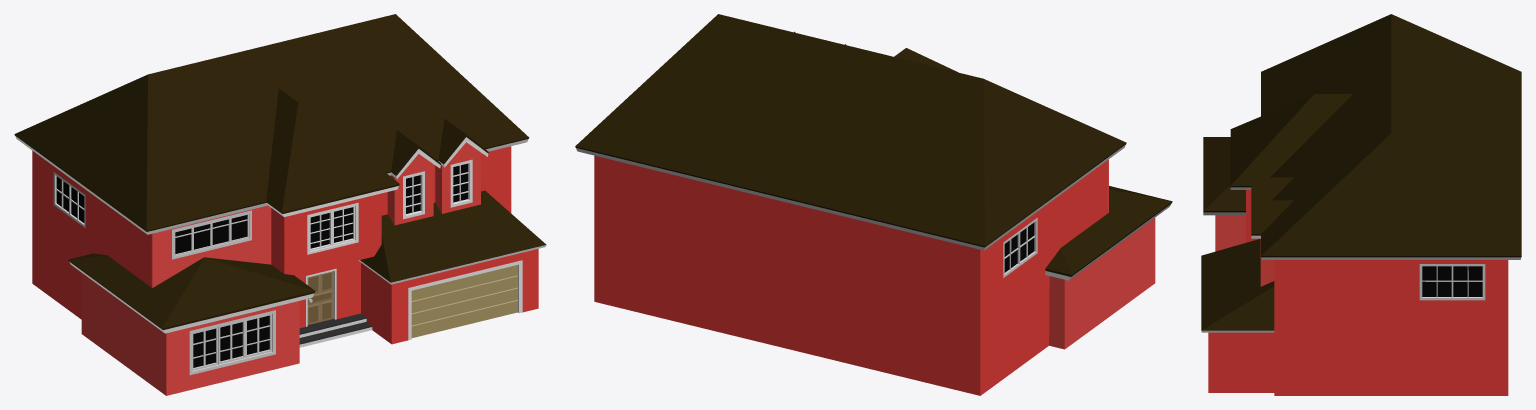
File: House-34.fbx
3 renders of one model, left to right at view 1: azimuth 30°, elevation 25°; view 2: azimuth 150°, elevation 25°; view 3: azimuth 270°, elevation 25°, orthographic. The views are drawn at different scales.
Parts seen in each view (by area): view 1: House-20-g; view 2: House-20-g; view 3: House-20-g.
Boxes of the visible parts, left/top/right/bottom form: House-20-g: left=14, top=14, right=546, bottom=395; House-20-g: left=575, top=14, right=1172, bottom=395; House-20-g: left=1201, top=14, right=1521, bottom=395.
Size of what is drawn, in the model's own units: 19.58 by 11.27 by 13.9.
